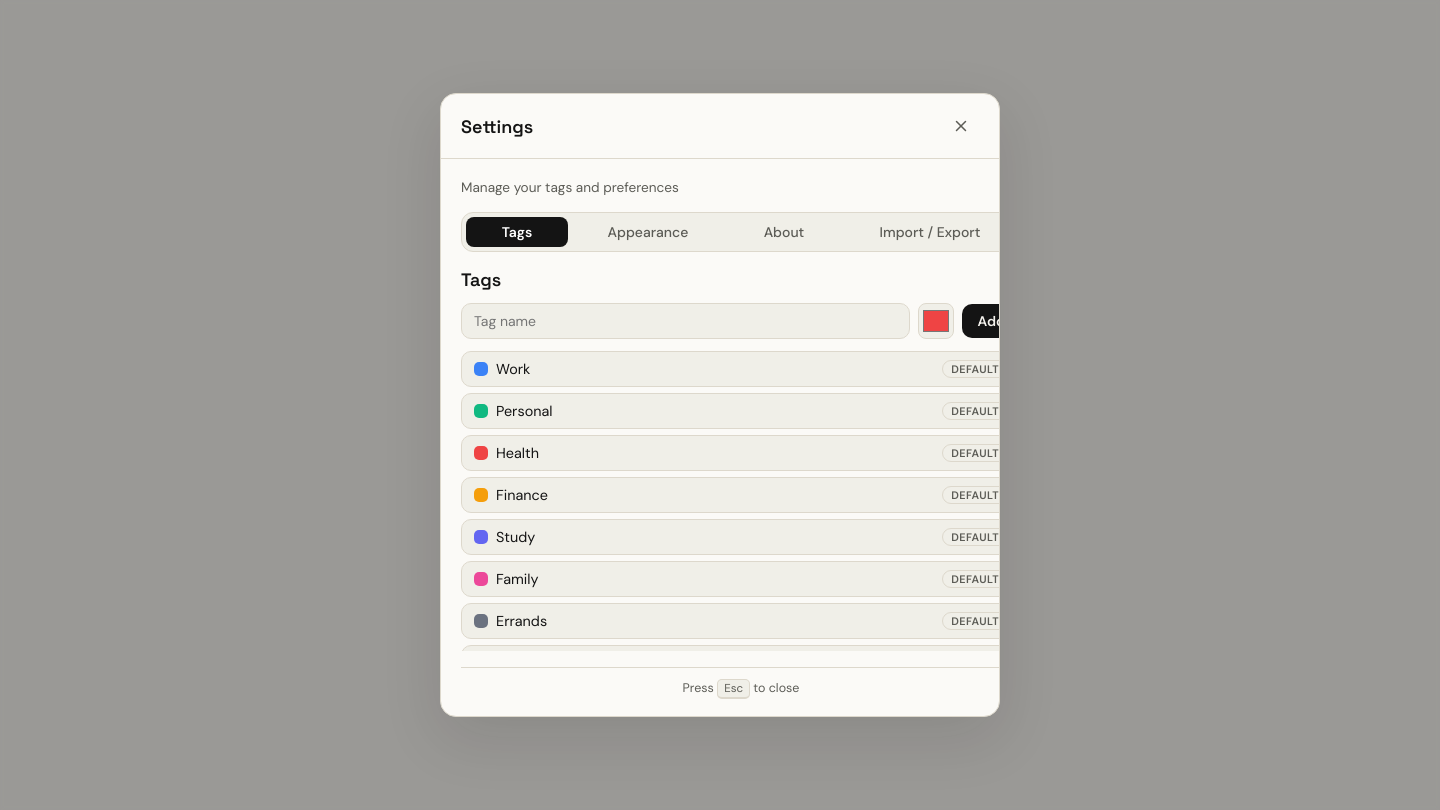
Test case: SettingsModal appearance tab (wired theme/font/size) › theme grid, font select, and the 12-20 size slider all apply for real
Click the tab "Appearance" at (648, 232), box [572,217,724,247]
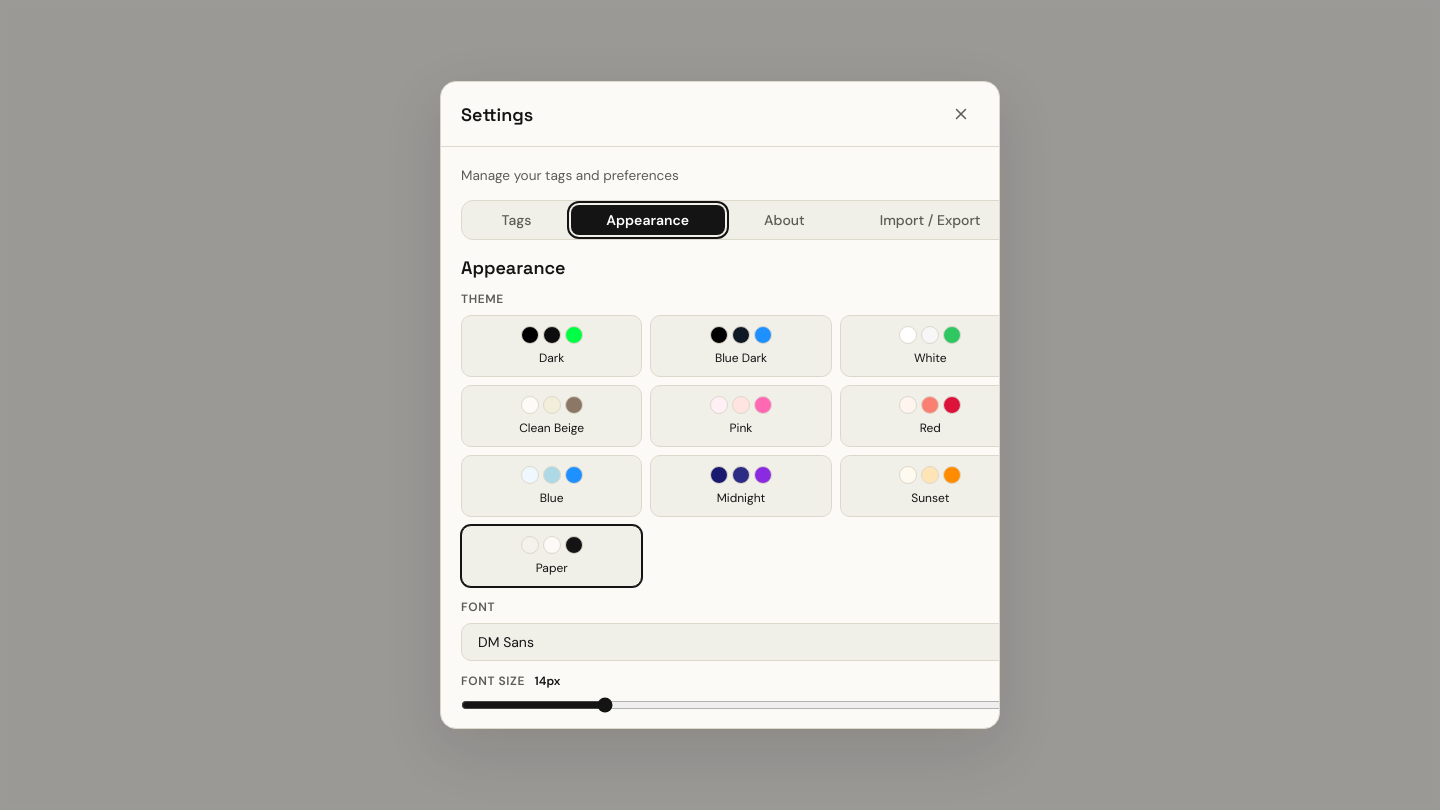
Expected: the number of buttons named "Theme " is 10
Click the button with aria-label "Theme Midnight" at (741, 486), box [650,455,832,517]
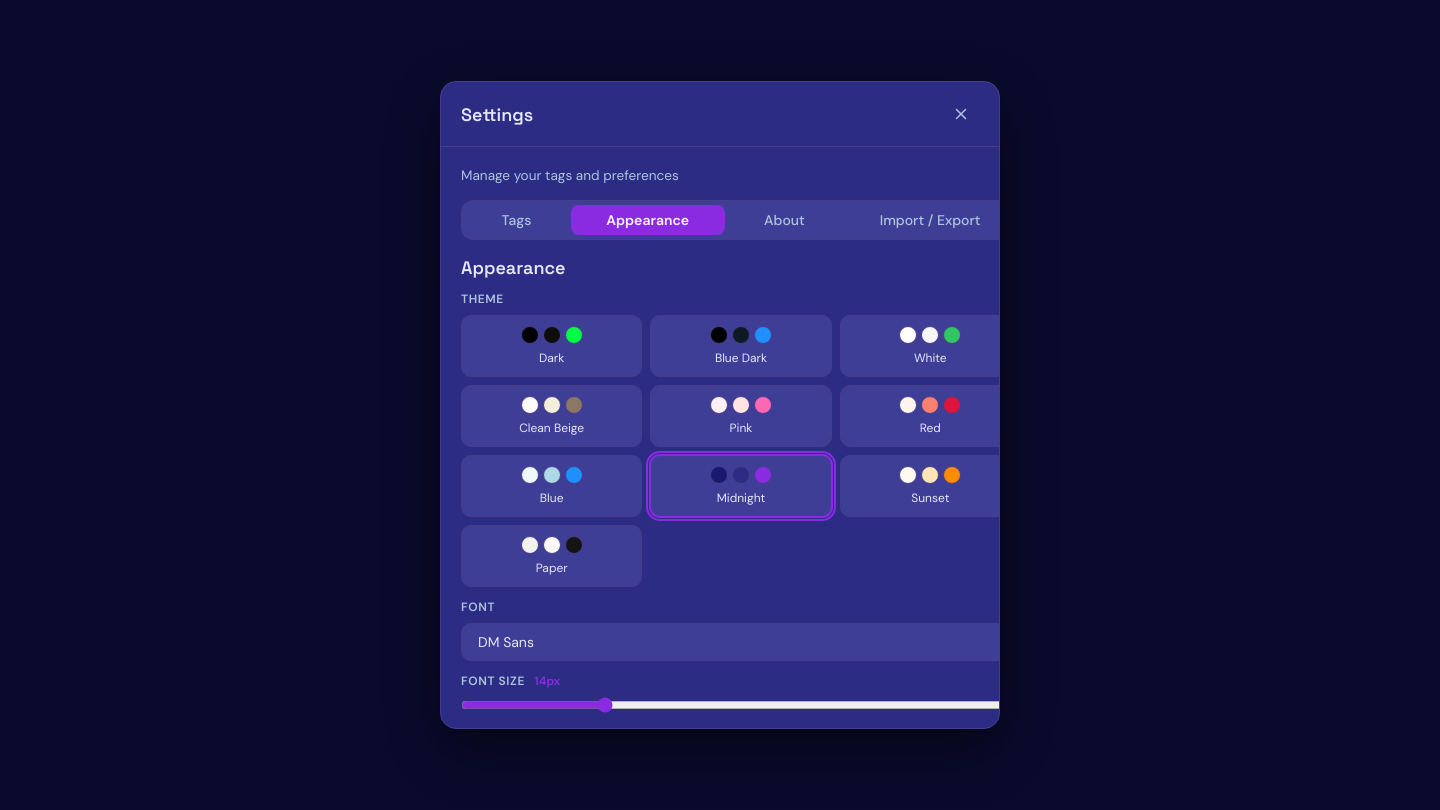
// Font select is wired (the old app's was a no-op).
Select "Inter" in the dropdown labelled "Font" at (741, 642), box [461,623,1021,661]
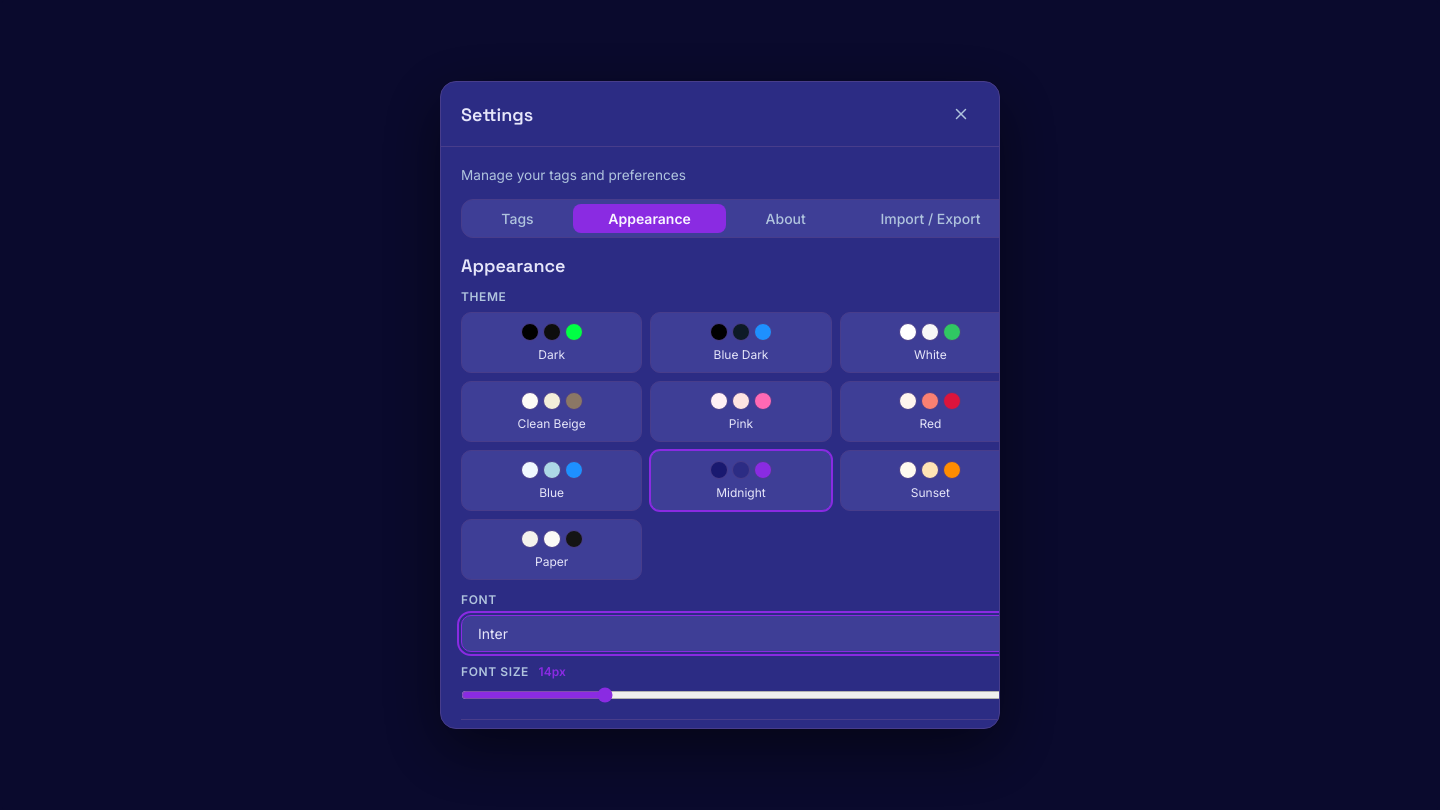
// Size slider is wired (the old app's had no onChange).
Set the slider labelled "Font Size 14px" to "18" at (877, 695), box [461,687,1021,703]
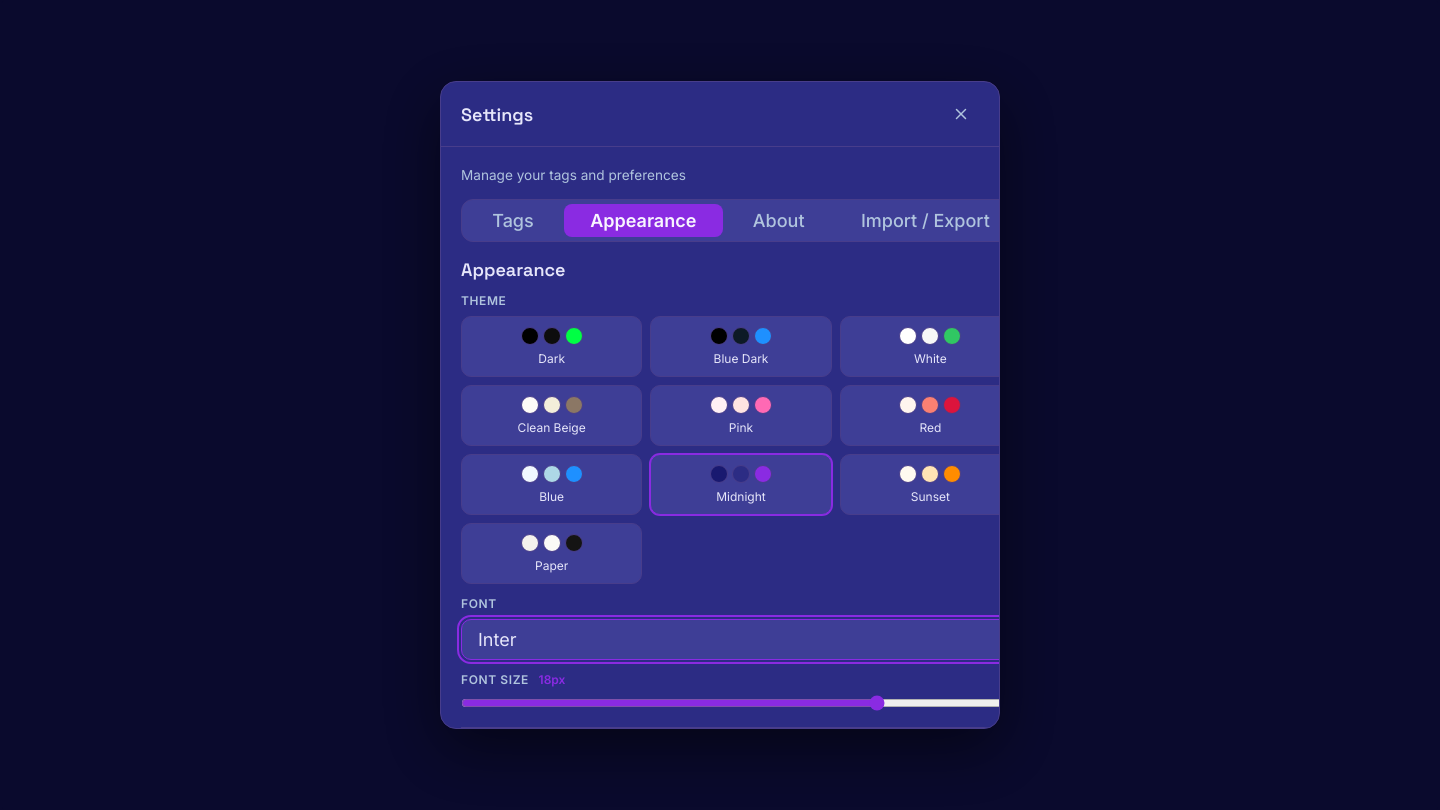
Expected: the text "18px" is shown, [539,672,565,687]
